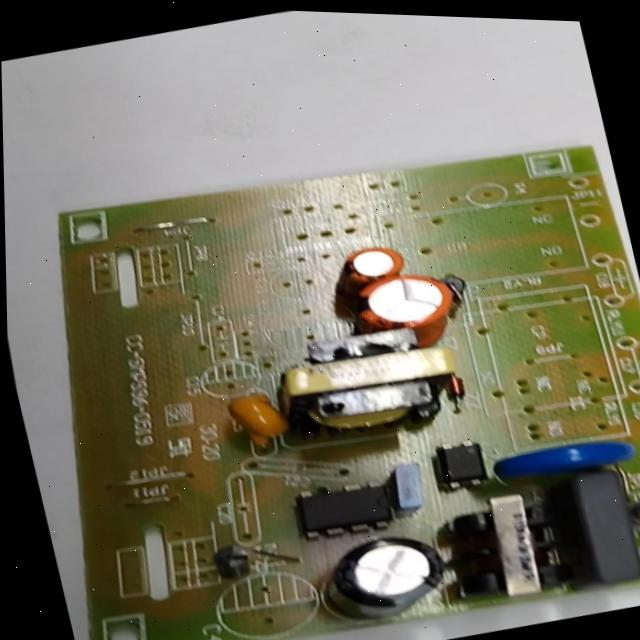Cap1: (354, 262, 459, 338)
Cap2: (339, 240, 406, 287)
Cap3: (326, 526, 454, 632)
MOSFET: (293, 473, 395, 544)
Mov: (493, 426, 640, 486)
Resistor: (630, 485, 640, 528)
Transformer: (439, 485, 572, 611)
